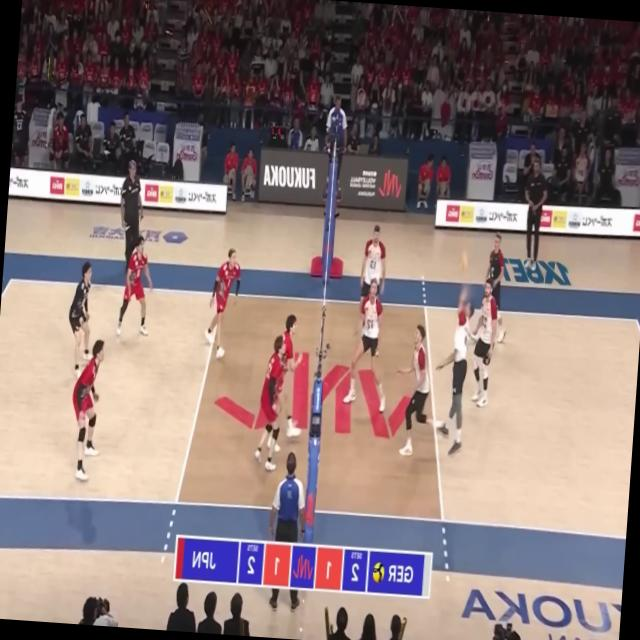referee: (263, 450, 312, 612)
team_one: (390, 322, 456, 461), (435, 248, 477, 456), (342, 277, 394, 412), (470, 231, 513, 343), (467, 276, 500, 408), (358, 224, 388, 327)
team_two: (65, 338, 106, 482), (266, 312, 310, 440), (254, 332, 288, 473), (202, 247, 243, 361), (116, 235, 156, 336), (64, 260, 98, 378)
